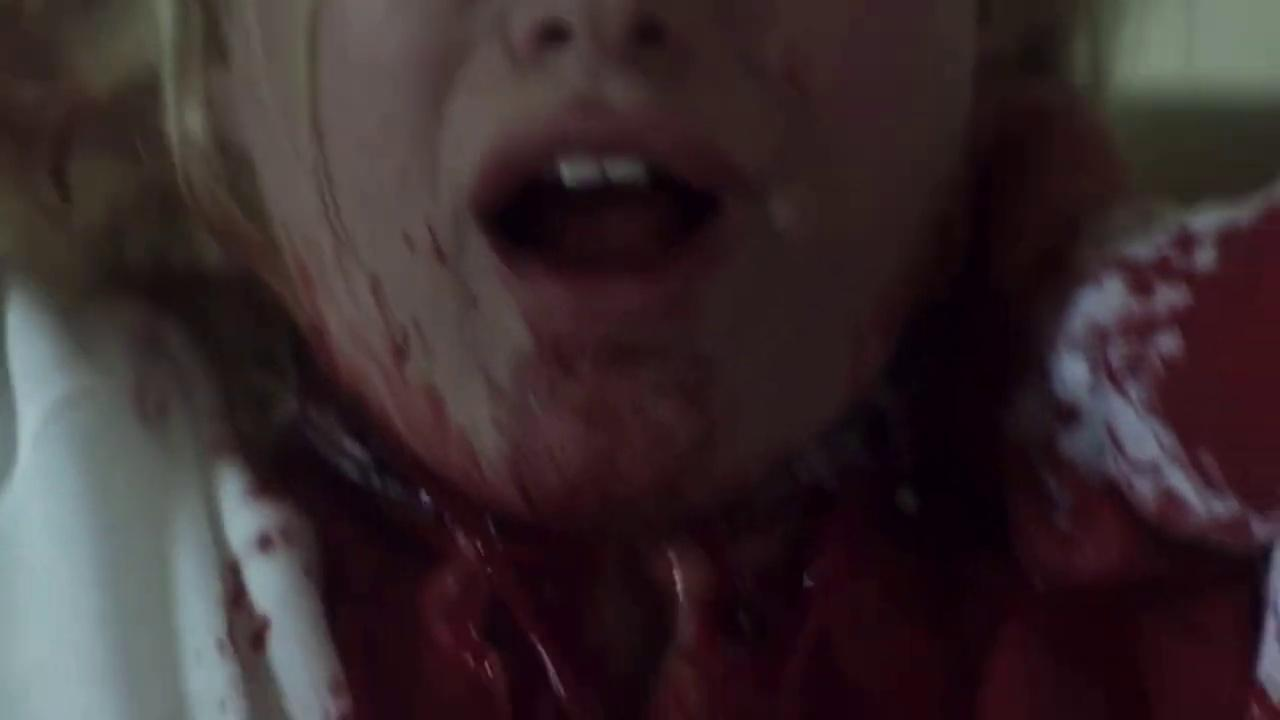Fire: (149, 77, 1280, 718), (426, 221, 447, 264)
